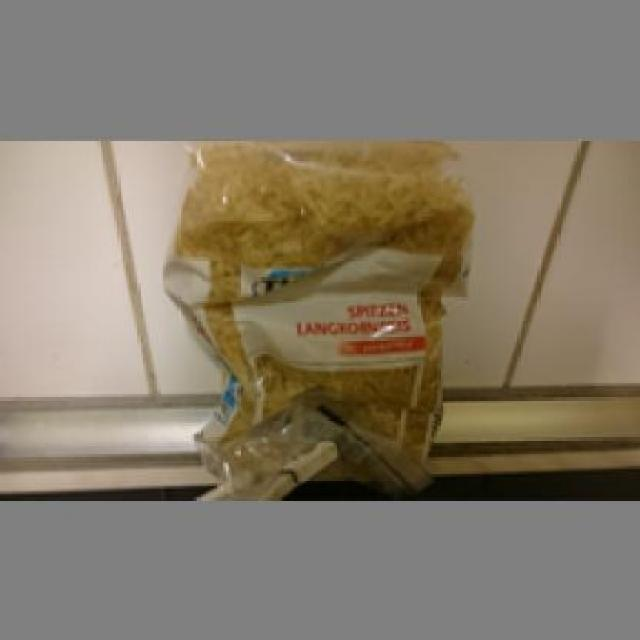Rice: (157, 137, 477, 494)
